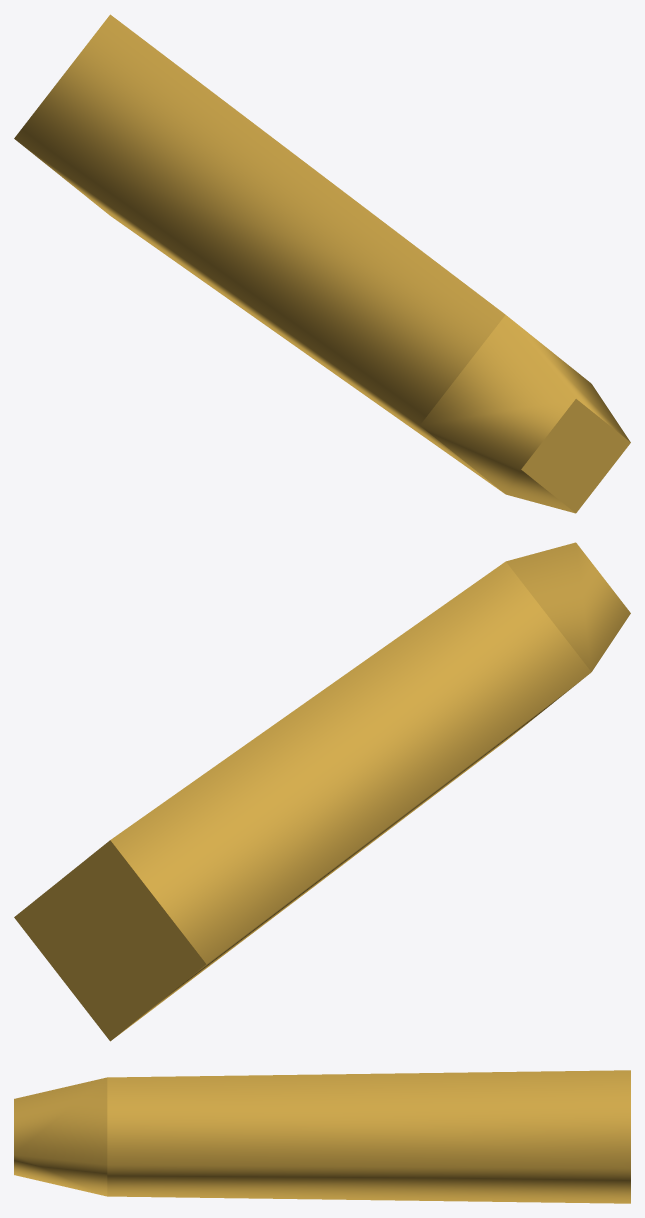
The model's file is FxEmpty556.FBX.
The picture shows the model from 3 angles, top to bottom: view 1: azimuth 30°, elevation 25°; view 2: azimuth 150°, elevation 25°; view 3: azimuth 270°, elevation 25°; orthographic projection. The views are drawn at different scales.
Parts seen in each view (by area): view 1: FxEmpty556; view 2: FxEmpty556; view 3: FxEmpty556.
Part boxes in pixels (x1,y1,x2,y2): FxEmpty556: (14, 14, 630, 513); FxEmpty556: (14, 542, 630, 1041); FxEmpty556: (14, 1070, 630, 1203).
Bounding box in the file's own units: 1.32 × 1.32 × 5.53.
